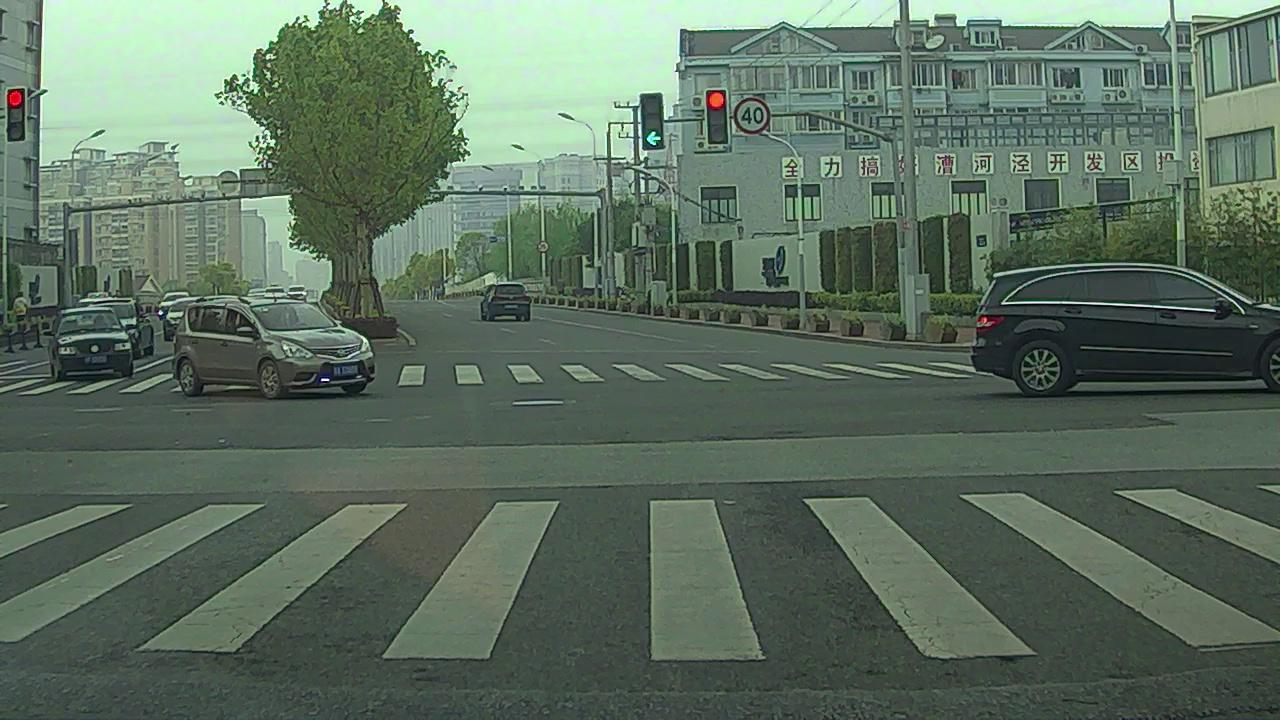traffic_light: (640, 94, 663, 149), (705, 90, 728, 143), (9, 84, 26, 140)
